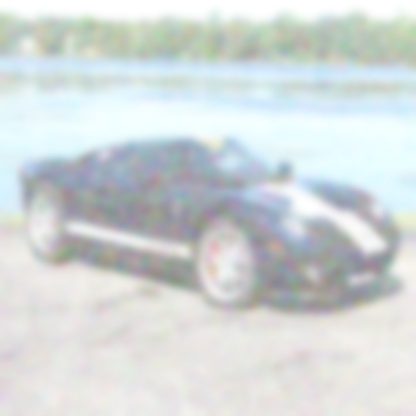Vehicle: (19, 137, 402, 309)
